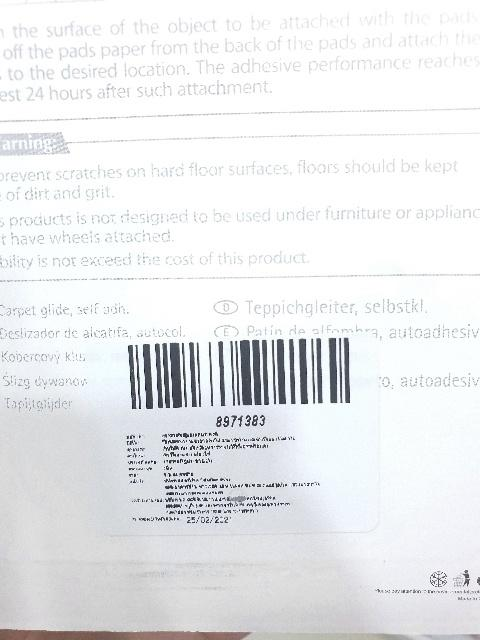Barcode: (112, 326, 368, 428)
